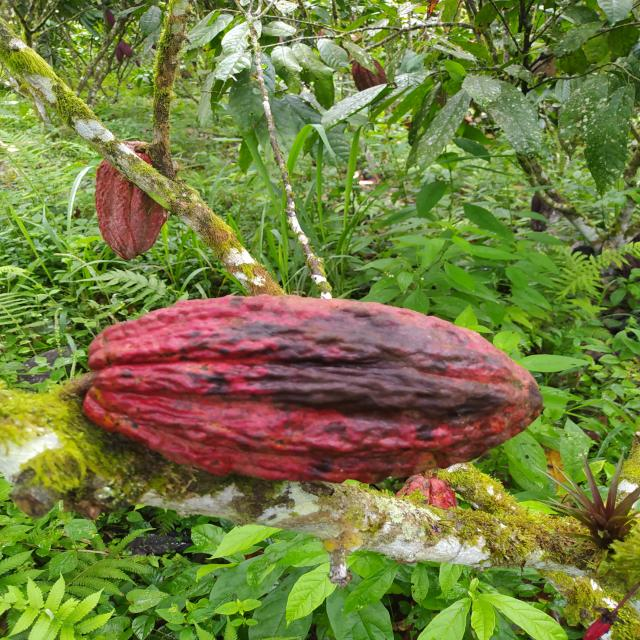Fitoftora: (79, 293, 542, 483)
Sana: (95, 141, 177, 259)
